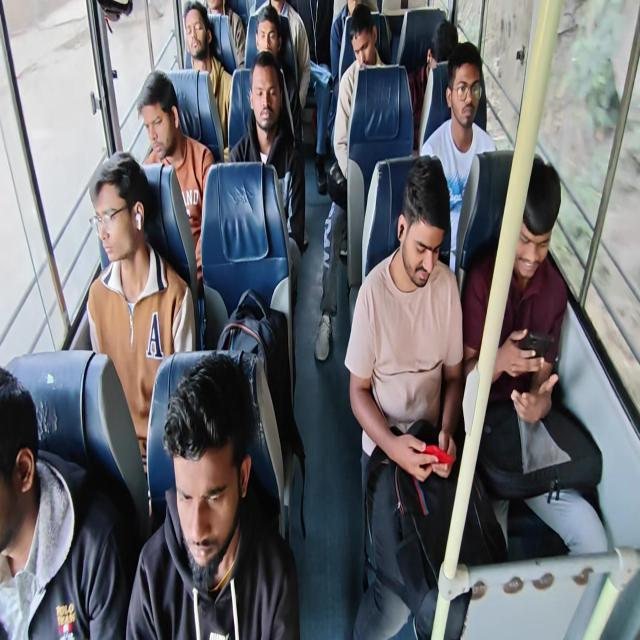person: (166, 366, 256, 557), (0, 366, 43, 550), (91, 156, 141, 274), (393, 195, 440, 288), (505, 186, 551, 274), (134, 91, 192, 146), (248, 58, 284, 134), (451, 62, 486, 127), (423, 26, 457, 81), (180, 7, 212, 59), (348, 28, 378, 79), (246, 12, 278, 51)
